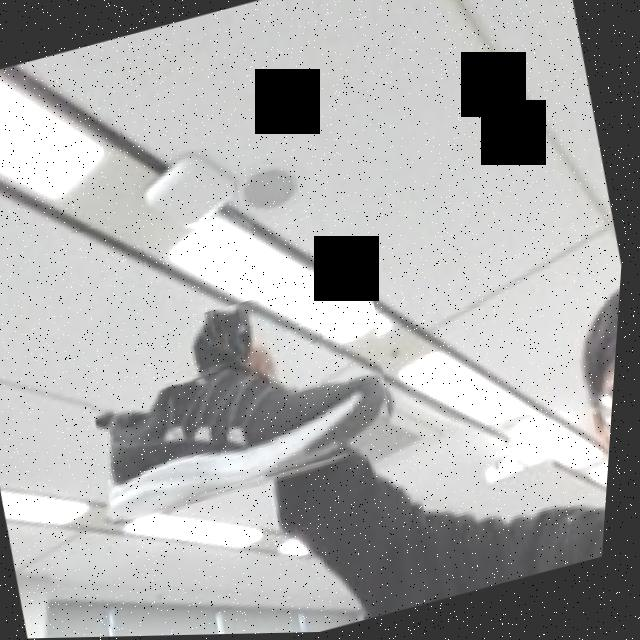shoe: (77, 269, 418, 526)
